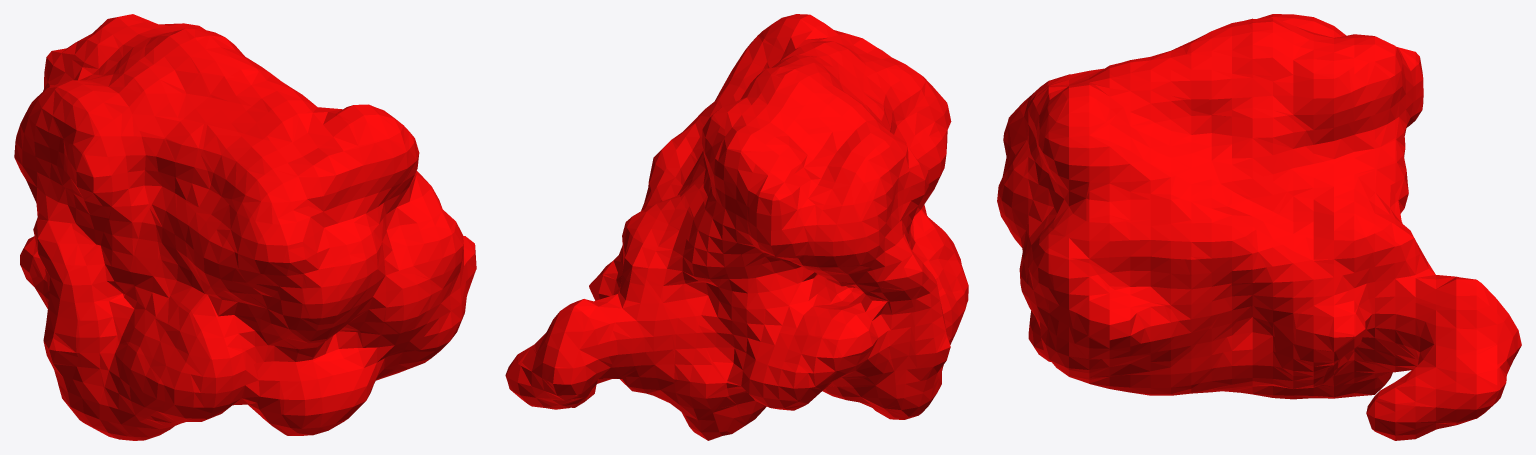
File: nanT_coarse.dae
The picture shows the model from 3 angles, left to right: view 1: azimuth 30°, elevation 25°; view 2: azimuth 150°, elevation 25°; view 3: azimuth 270°, elevation 25°; orthographic projection. The views are drawn at different scales.
Parts seen in each view (by area): view 1: nanT; view 2: nanT; view 3: nanT.
Boxes of the visible parts, bbox=[...] form: nanT: bbox=[14, 14, 476, 440]; nanT: bbox=[505, 14, 968, 440]; nanT: bbox=[997, 14, 1521, 440].
Size of the model in its own units: 61.42 by 59.02 by 77.51.
